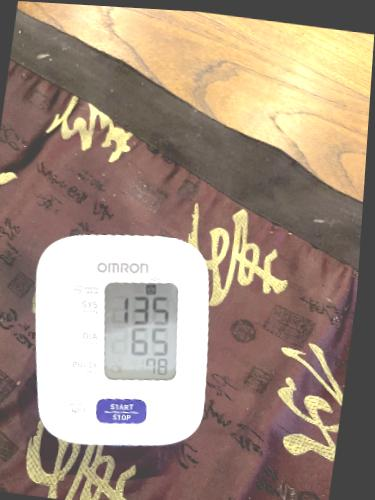bpm: (101, 281, 176, 380)
